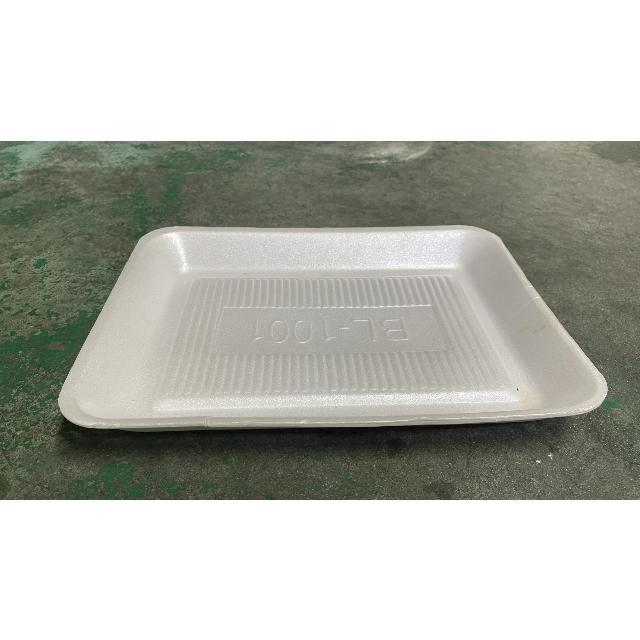Recipiente plastico: (59, 226, 606, 429)
